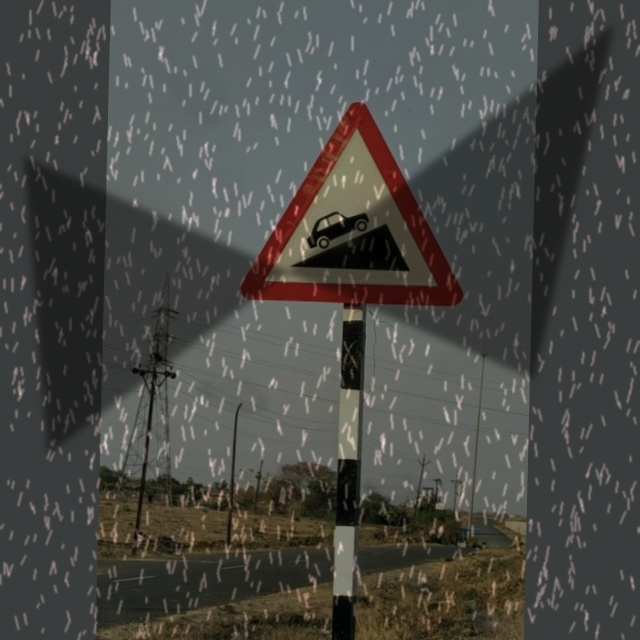Steep_Ascent: (244, 97, 462, 310)
